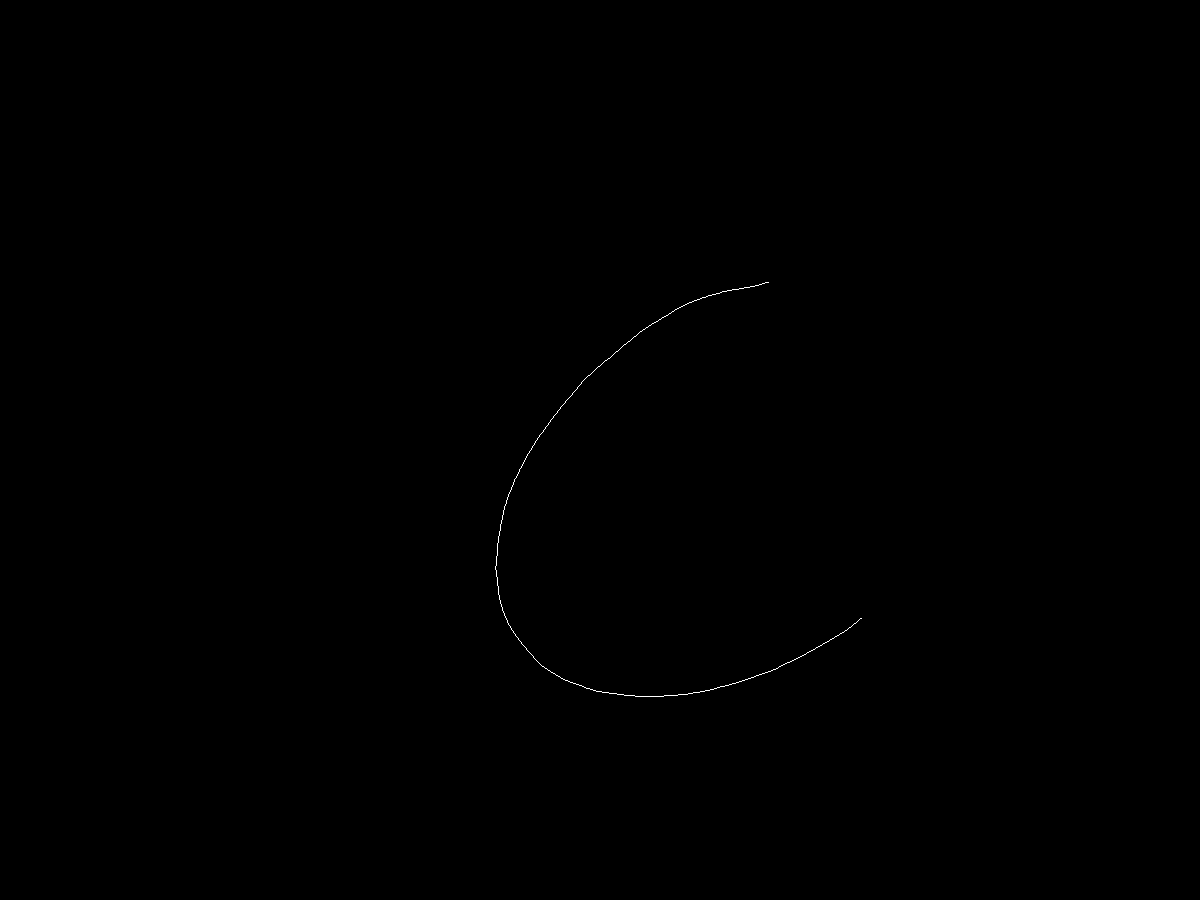dian1: (760, 271, 777, 295)
dian2: (847, 608, 872, 628)
